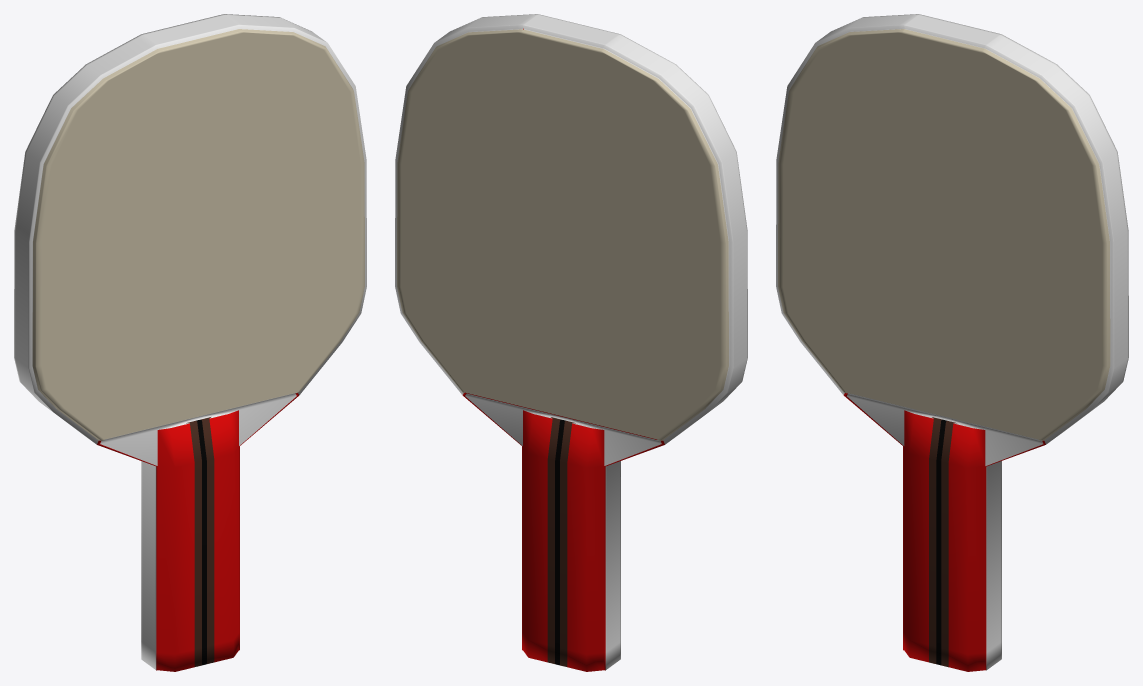
Rendered from PPPaddle.fbx.
3 views of the same model, side by side, from view 1: azimuth 30°, elevation 25°; view 2: azimuth 150°, elevation 25°; view 3: azimuth 330°, elevation 25° (orthographic).
Parts seen in each view (by area): view 1: Cube; view 2: Cube; view 3: Cube.
Part boxes in pixels (x1,y1,x2,y2): Cube: (14,14,366,671); Cube: (395,14,747,671); Cube: (776,14,1128,671).
Size of the model in its own units: 455 by 806 by 64.67.
